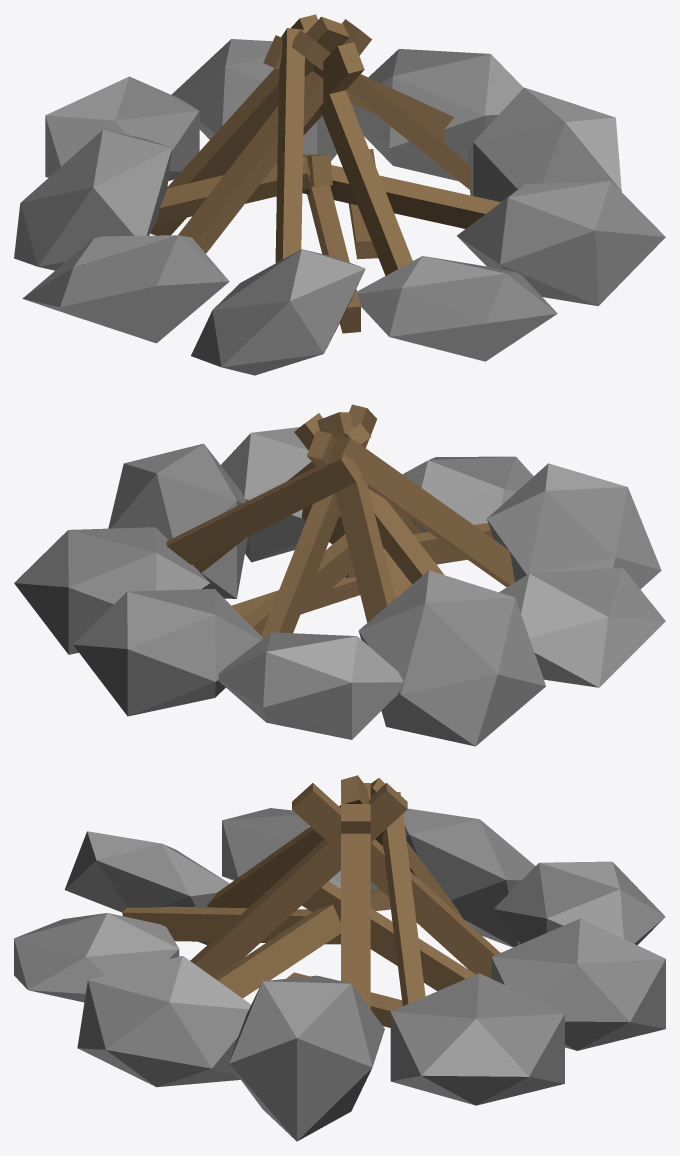
The model's file is TheFire.fbx.
3 renders of one model, top to bottom at view 1: azimuth 30°, elevation 25°; view 2: azimuth 150°, elevation 25°; view 3: azimuth 270°, elevation 25°, orthographic. The views are drawn at different scales.
Parts seen in each view (by area): view 1: pPlatonic10, pPlatonic7, pPlatonic5, pPlatonic9, pPlatonic8, pPlatonic1, pPlatonic2, pPlatonic4, pCube2, pPlatonic3, pCube4, pCube8 (+9 smaller); view 2: pPlatonic5, pPlatonic3, pPlatonic4, pPlatonic8, pPlatonic7, pPlatonic2, pPlatonic1, pCube8, pCube5, pPlatonic10, pPlatonic9, pCube7 (+8 smaller); view 3: pPlatonic2, pPlatonic1, pPlatonic10, pPlatonic3, pPlatonic9, pPlatonic5, pPlatonic4, pPlatonic8, pCube2, pCube1, pCube3, pCube5 (+8 smaller).
Boxes of the visible parts, <box> form: pPlatonic10: <box>457,181,665,306</box>; pPlatonic7: <box>22,235,229,343</box>; pPlatonic5: <box>14,129,171,270</box>; pPlatonic9: <box>357,256,557,361</box>; pPlatonic8: <box>191,249,365,375</box>; pPlatonic1: <box>467,87,621,201</box>; pPlatonic2: <box>353,49,523,181</box>; pPlatonic4: <box>45,76,199,180</box>; pCube2: <box>291,14,412,275</box>; pPlatonic3: <box>171,39,354,160</box>; pCube4: <box>178,19,371,253</box>; pCube8: <box>275,28,305,262</box>; pPlatonic5: <box>358,570,545,746</box>; pPlatonic3: <box>73,589,262,716</box>; pPlatonic4: <box>218,632,403,739</box>; pPlatonic8: <box>487,463,661,589</box>; pPlatonic7: <box>499,567,665,687</box>; pPlatonic2: <box>14,527,209,654</box>; pPlatonic1: <box>108,443,247,598</box>; pCube8: <box>328,435,514,587</box>; pCube5: <box>166,455,362,564</box>; pPlatonic10: <box>221,427,311,562</box>; pPlatonic9: <box>402,456,533,532</box>; pCube7: <box>317,412,395,622</box>; pPlatonic2: <box>390,973,564,1105</box>; pPlatonic1: <box>229,975,384,1141</box>; pPlatonic10: <box>77,956,250,1087</box>; pPlatonic3: <box>491,918,665,1050</box>; pPlatonic9: <box>14,913,179,1002</box>; pPlatonic5: <box>403,808,535,947</box>; pPlatonic4: <box>494,861,665,944</box>; pPlatonic8: <box>64,831,229,944</box>; pCube2: <box>190,783,407,977</box>; pCube1: <box>292,783,500,978</box>; pCube3: <box>341,783,370,1008</box>; pCube5: <box>382,792,425,1005</box>.
Bounding box in the file's own units: 5.05 × 2.11 × 5.16.
